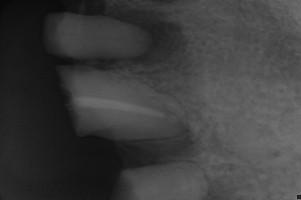Furcation Involvement: (111, 9, 187, 64)
